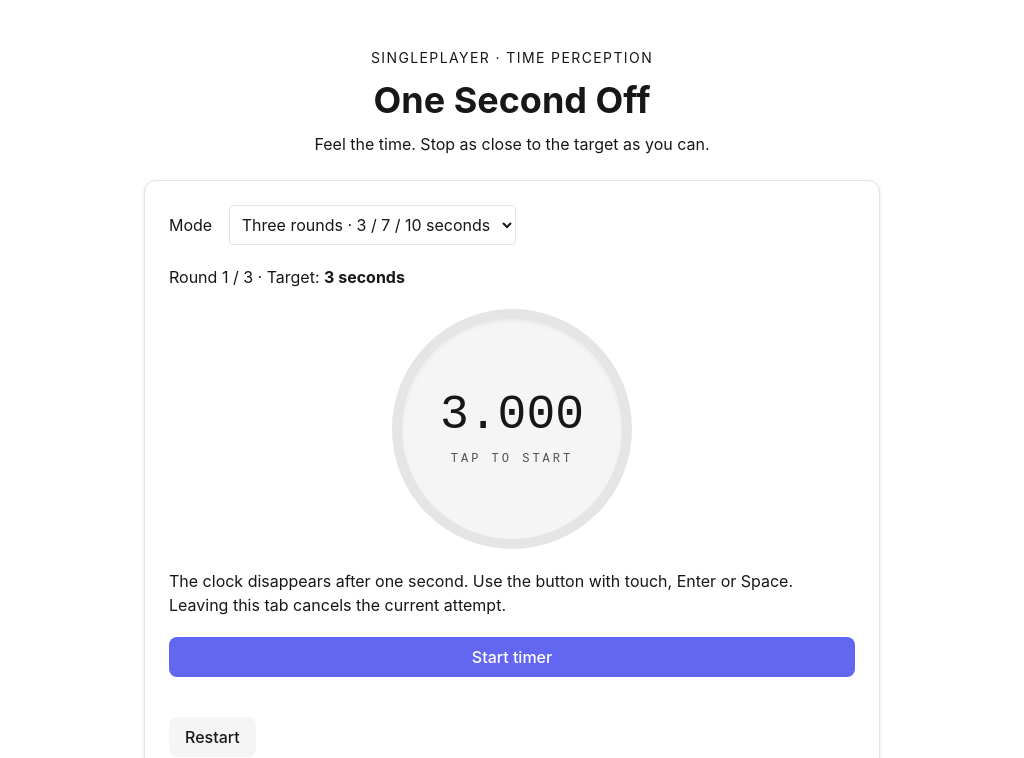
Test: the large timer pad supports starting and stopping directly
The image size is (1024, 758).
Click the button with aria-label "Timer pad — start": (512, 429) x1=392 y1=309 x2=632 y2=549
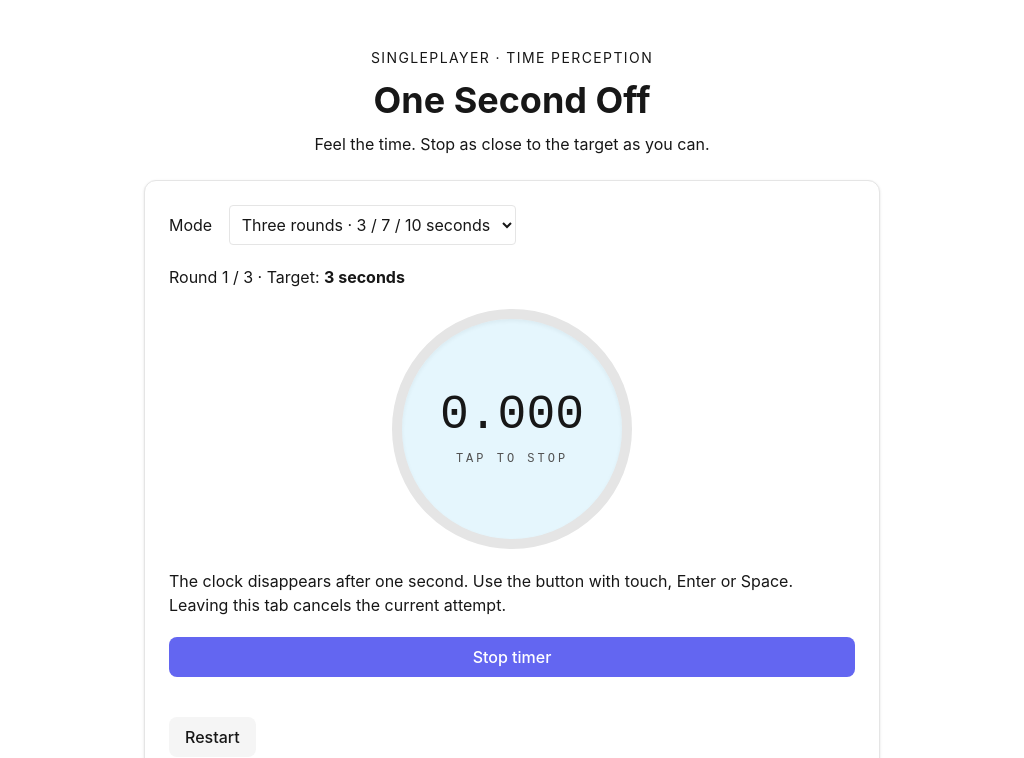
Click the button with aria-label "Timer pad — stop": (512, 429) x1=392 y1=309 x2=632 y2=549
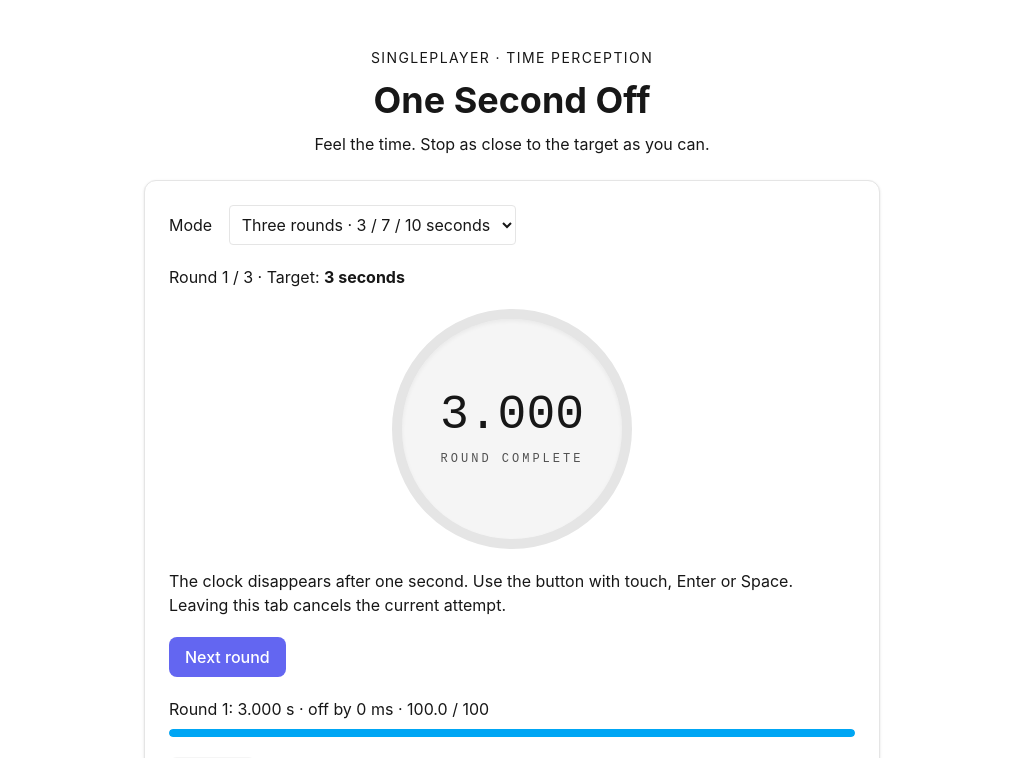
Expected: the list item "Round 1: 3.000 s · off by 0 ms · 100.0 / 100" is shown, x1=169 y1=697 x2=855 y2=737
